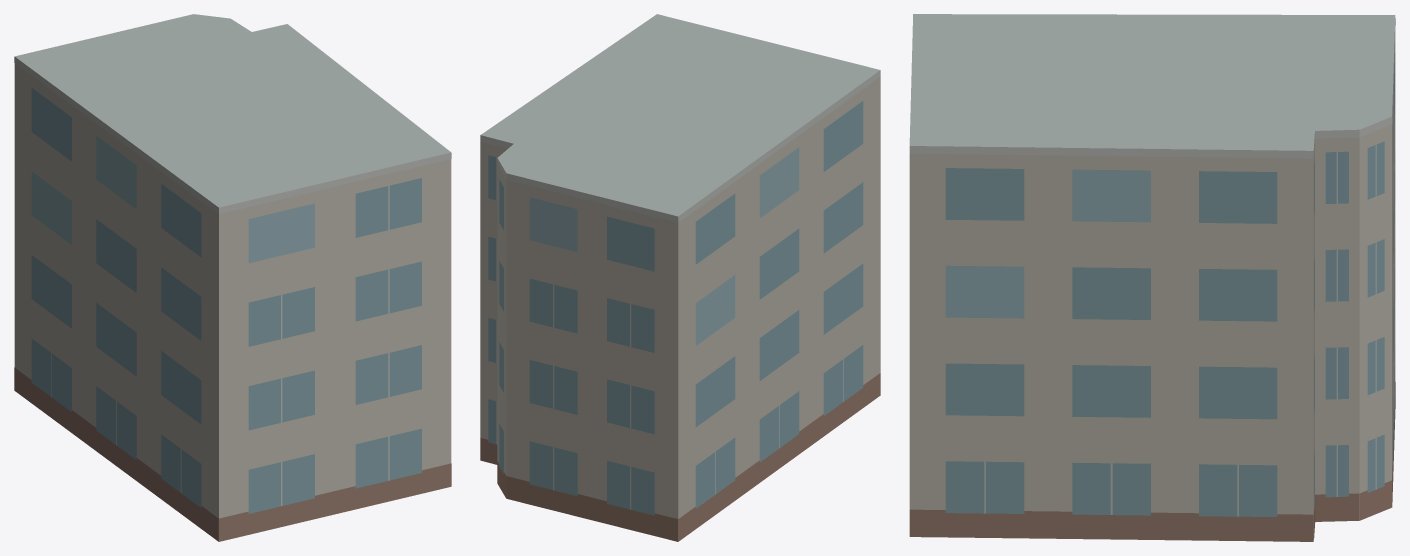
File: survey-upis-32927483.glb
3 renders of one model, left to right at view 1: azimuth 30°, elevation 25°; view 2: azimuth 150°, elevation 25°; view 3: azimuth 270°, elevation 25°, orthographic. The views are drawn at different scales.
Visible parts, largest first — view 1: survey-upis-32927483.tmp; view 2: survey-upis-32927483.tmp; view 3: survey-upis-32927483.tmp.
Boxes of the visible parts, x1,y1,x2,y2 form: survey-upis-32927483.tmp: (14,14,451,541); survey-upis-32927483.tmp: (480,14,880,541); survey-upis-32927483.tmp: (909,14,1395,541).
Bounding box in the file's own units: 9.32 × 12.4 × 13.97.
